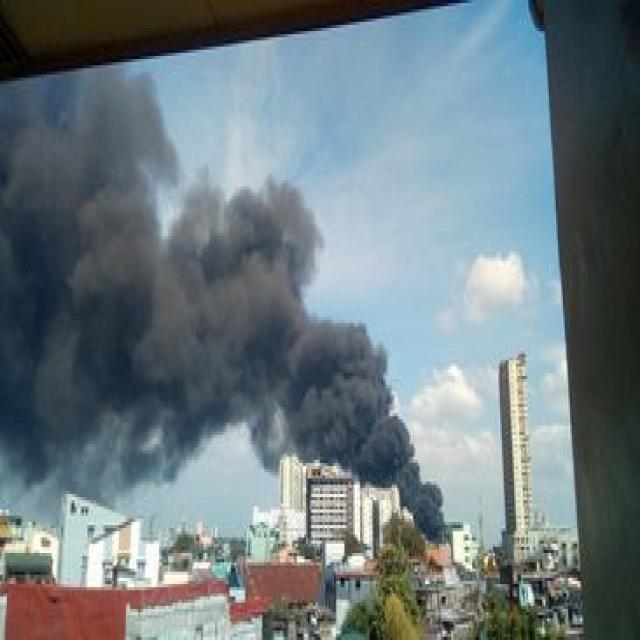Smoke: (0, 82, 183, 458), (179, 206, 350, 435), (352, 364, 405, 470), (400, 461, 444, 527)
